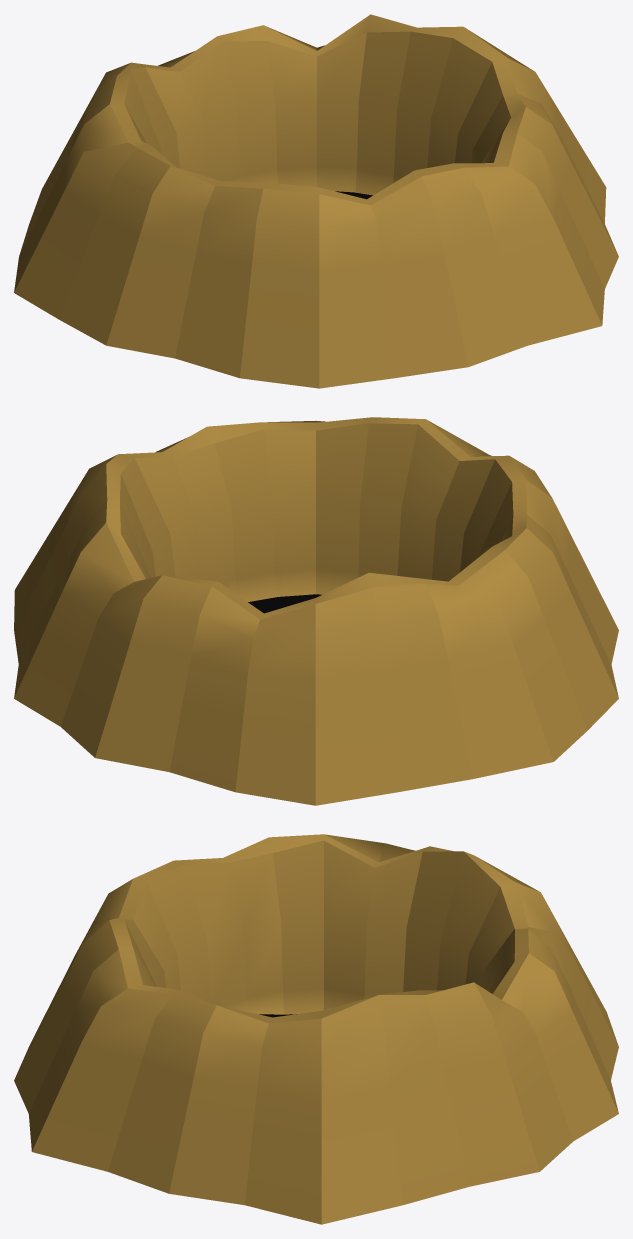
Rendered from Mole Hill.fbx.
3 renders of one model, top to bottom at view 1: azimuth 30°, elevation 25°; view 2: azimuth 150°, elevation 25°; view 3: azimuth 270°, elevation 25°, orthographic. The views are drawn at different scales.
Visible parts, largest first — view 1: pCylinder1; view 2: pCylinder1; view 3: pCylinder1.
Part boxes in pixels (x1=…): pCylinder1: x1=14, y1=14, x2=618, y2=388; pCylinder1: x1=14, y1=417, x2=618, y2=805; pCylinder1: x1=14, y1=834, x2=618, y2=1224.
Size of the model in its own units: 3.41 by 0.9945 by 3.15.
